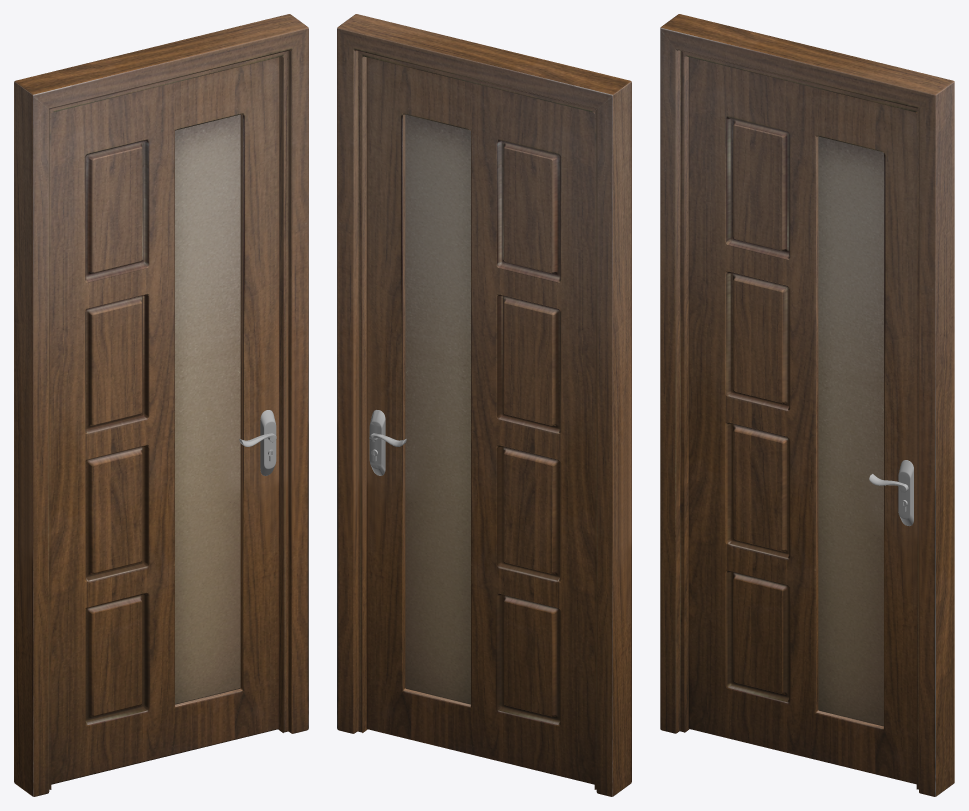
The model's file is MDK-08.glb.
The picture shows the model from 3 angles, left to right: view 1: azimuth 30°, elevation 25°; view 2: azimuth 150°, elevation 25°; view 3: azimuth 330°, elevation 25°; orthographic projection.
Visible parts, largest first — view 1: Dur, Frame; view 2: Dur, Frame; view 3: Dur, Frame.
Boxes of the visible parts, x1,y1,x2,y2 form: Dur: (51, 57, 279, 784); Frame: (14, 14, 308, 796); Dur: (366, 57, 594, 784); Frame: (337, 14, 631, 796); Dur: (688, 57, 916, 784); Frame: (660, 14, 954, 796).
Bounding box in the file's own units: 1.47 × 3.57 × 0.1864.
2 materials, 1 textured.
